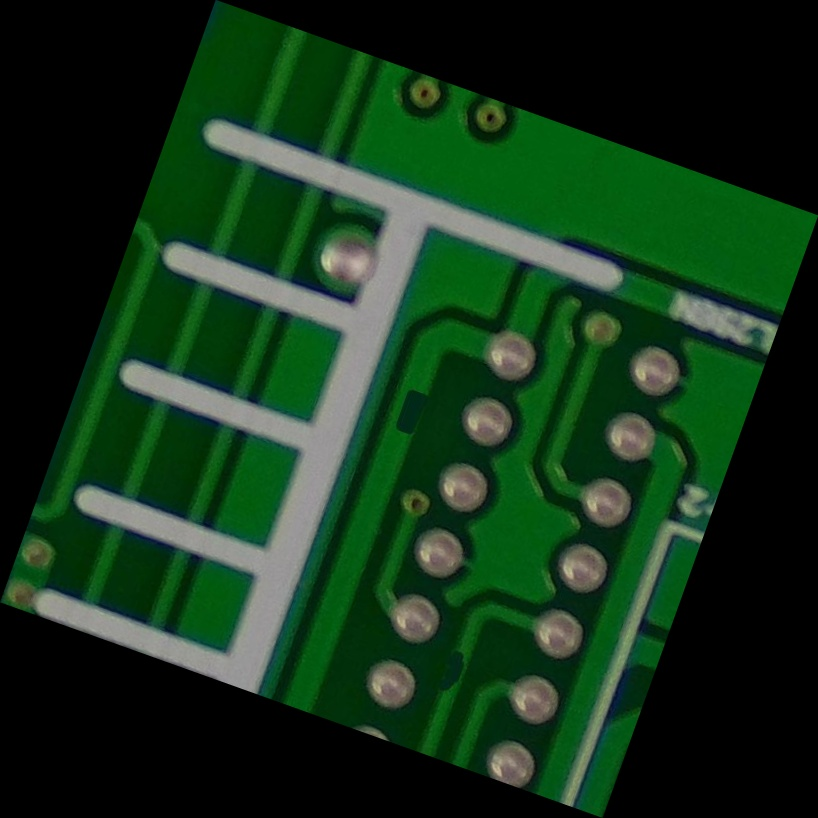mouse_bite: (366, 363, 453, 456)
